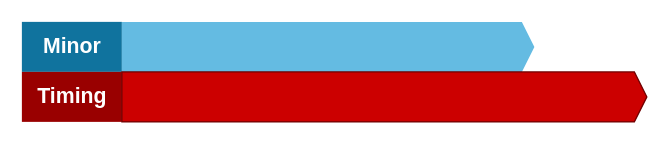
The diagram is 669 pixels wide and 144 high, and some of its shapes have lost their labels. Here are the shapes that lost their labels. From the top down, the centre of each, then its label:
At point 327,46: "33 micro seconds".
At point 384,96: "42 micro seconds".
